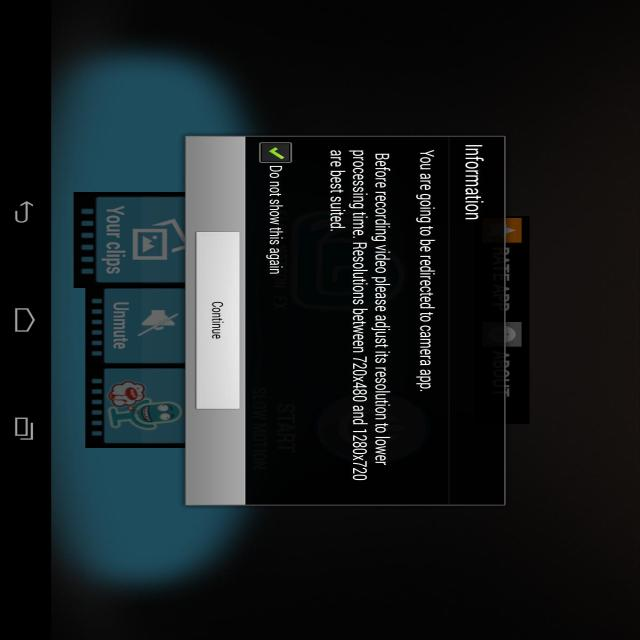button: (197, 232, 241, 410), (260, 142, 290, 166)
heading: (461, 139, 488, 227)
label: (260, 165, 289, 285)
text: (323, 144, 439, 492), (211, 301, 227, 346)
